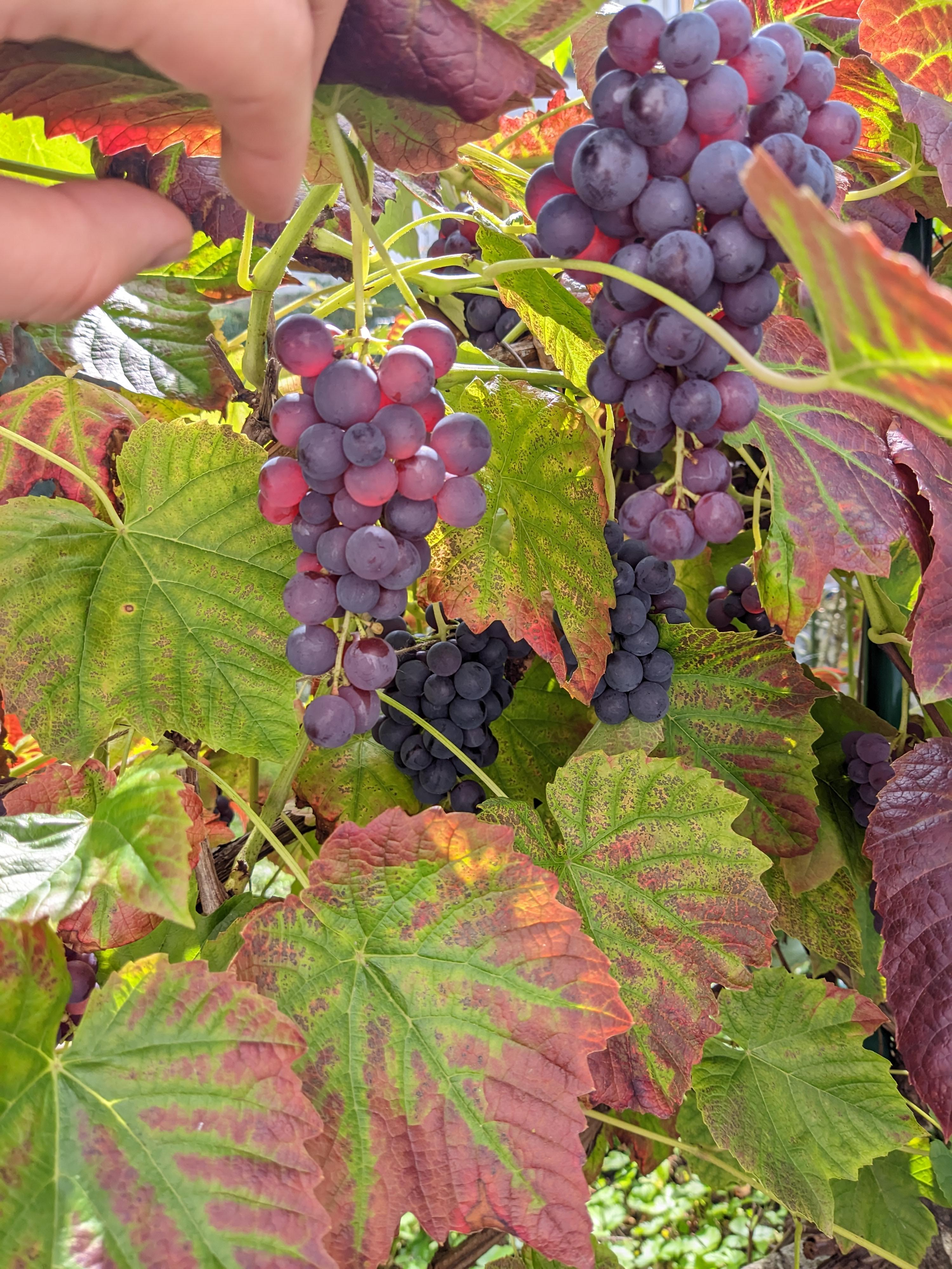Grape Ripe: (524, 1, 863, 555), (256, 312, 492, 749), (373, 615, 515, 814), (593, 522, 690, 721), (425, 213, 537, 358), (839, 724, 903, 832), (703, 558, 769, 636)
